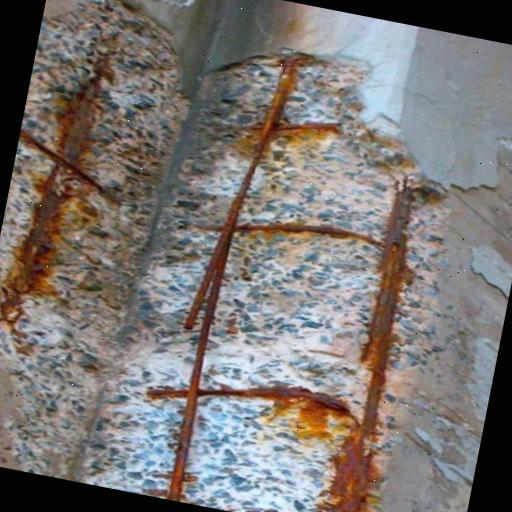spalling: (0, 0, 446, 512)
